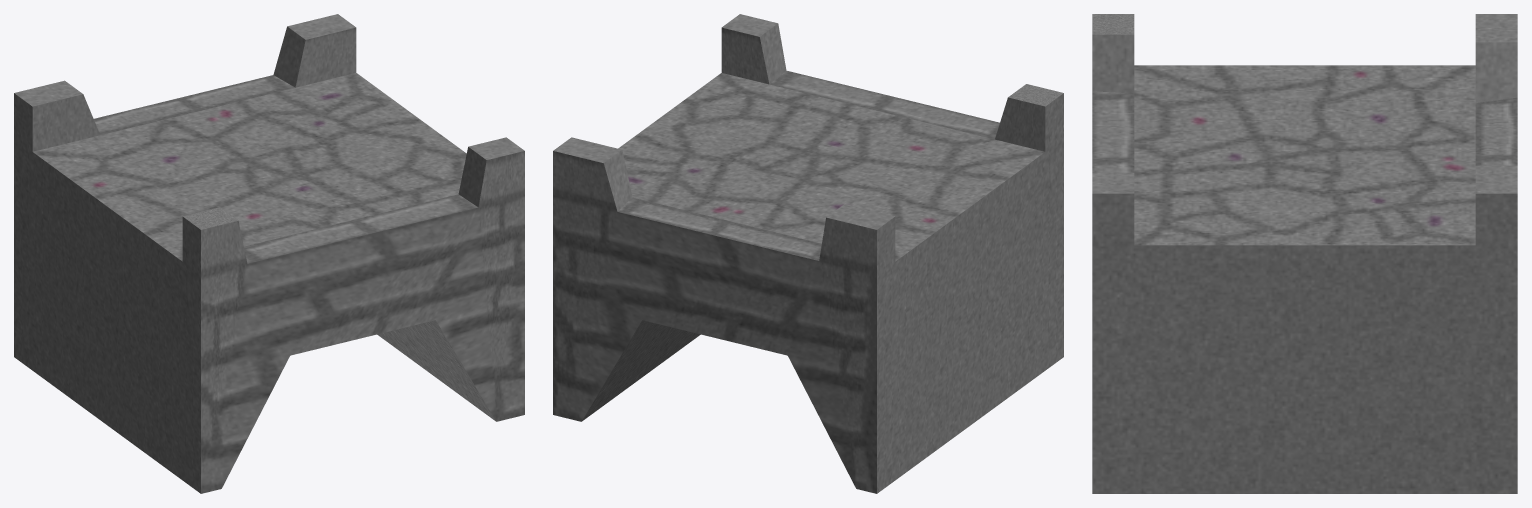
The model's file is hell_bridge_cross.fbx.
3 views of the same model, side by side, from view 1: azimuth 30°, elevation 25°; view 2: azimuth 150°, elevation 25°; view 3: azimuth 270°, elevation 25° (orthographic). The views are drawn at different scales.
Visible parts, largest first — view 1: hell_bridge_cross_LOD0; view 2: hell_bridge_cross_LOD0; view 3: hell_bridge_cross_LOD0.
Part boxes in pixels (x1,y1,x2,y2): hell_bridge_cross_LOD0: [14, 14, 524, 493]; hell_bridge_cross_LOD0: [553, 14, 1063, 493]; hell_bridge_cross_LOD0: [1092, 14, 1517, 493].
Size of what is drawn, in the model's own units: 2 by 2 by 1.56.
